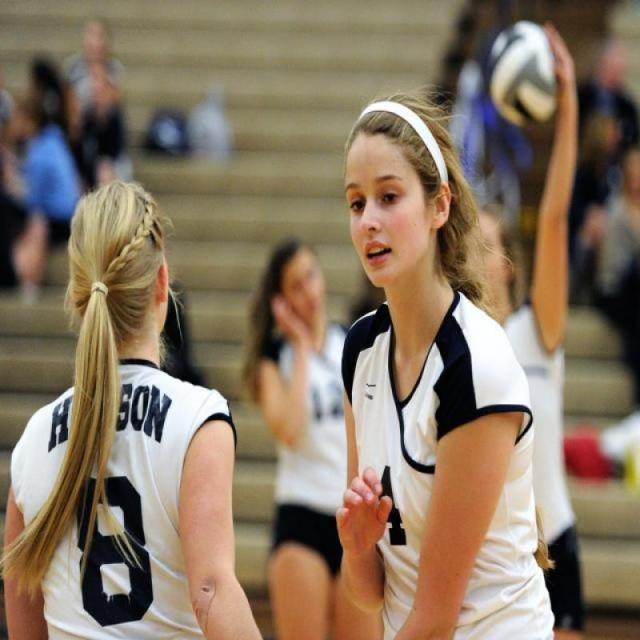volleyball: (484, 13, 562, 128)
